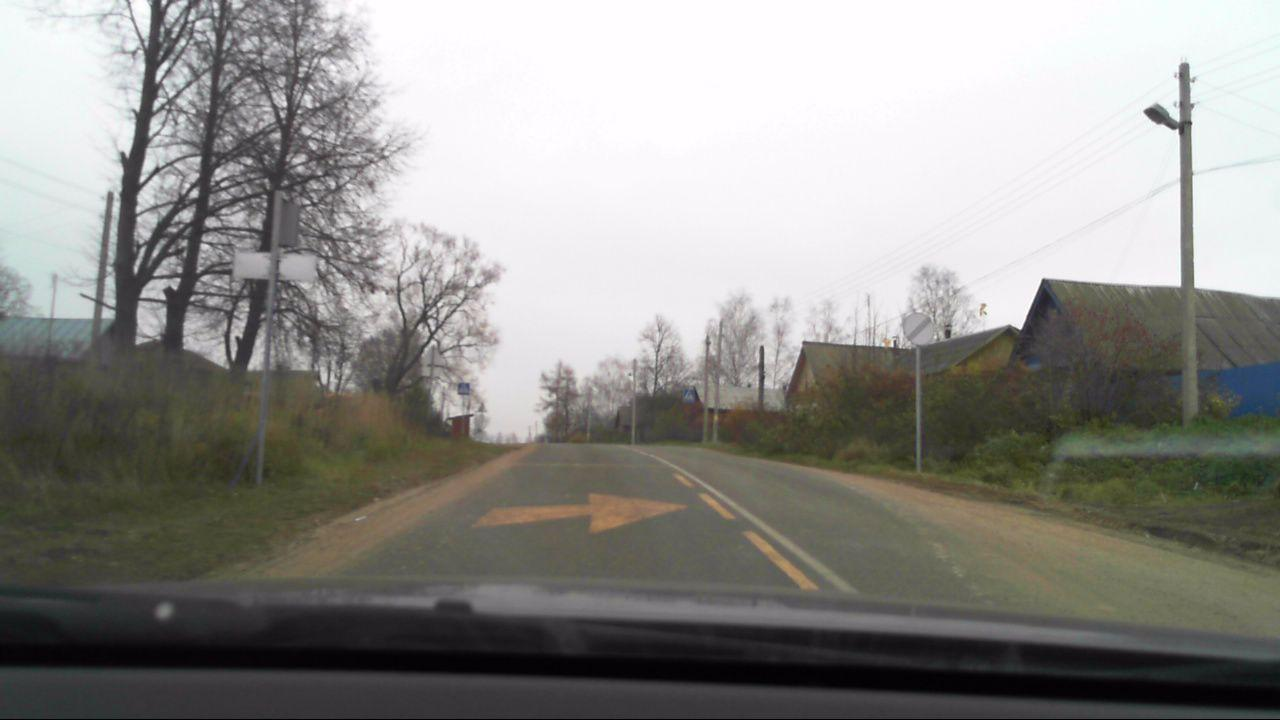3_31: (899, 311, 940, 350)
